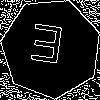E: (26, 23, 66, 74)
